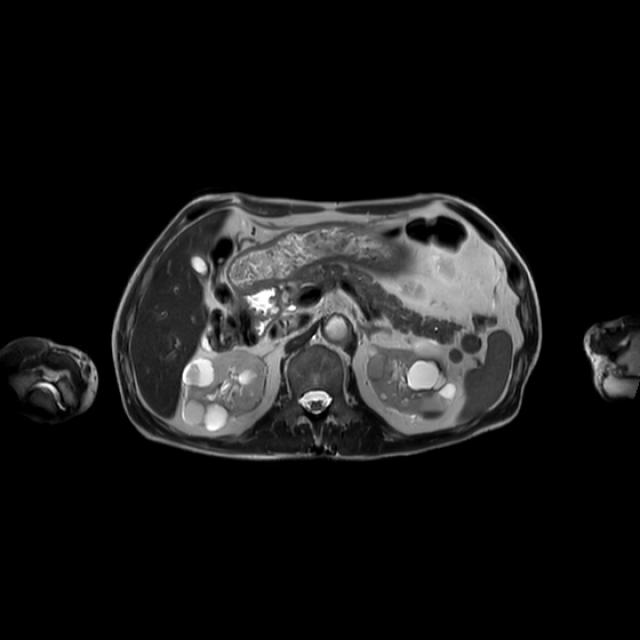sag: (182, 349, 270, 430)
sol: (365, 337, 457, 424)
